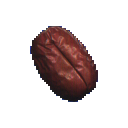ng: (24, 21, 108, 107)
